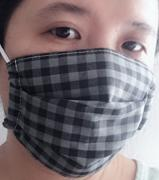with_mask: (1, 1, 159, 180)
